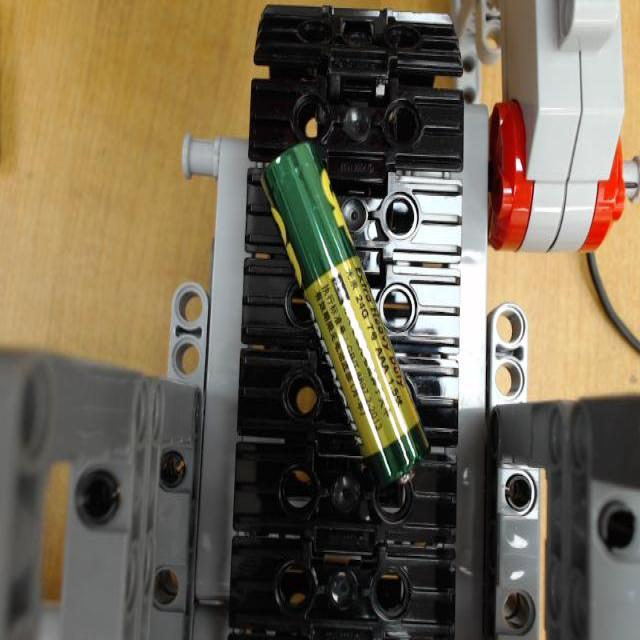AAA: (255, 136, 436, 495)
